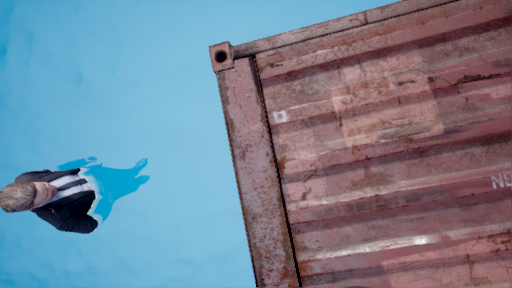person: (4, 156, 168, 238)
